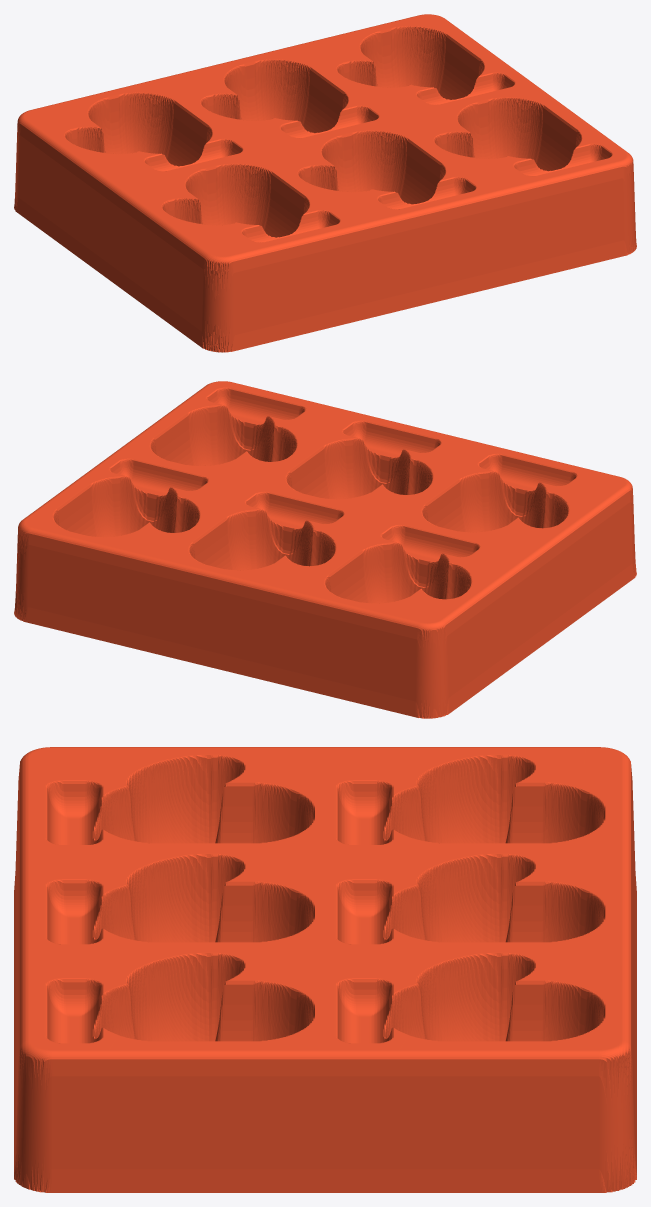
File: mold.glb
The picture shows the model from 3 angles, top to bottom: view 1: azimuth 30°, elevation 25°; view 2: azimuth 150°, elevation 25°; view 3: azimuth 270°, elevation 25°; orthographic projection. The views are drawn at different scales.
Parts seen in each view (by area): view 1: geometry_0; view 2: geometry_0; view 3: geometry_0.
Boxes of the visible parts, <box> form: geometry_0: <box>14,14,636,352</box>; geometry_0: <box>14,381,636,718</box>; geometry_0: <box>14,747,636,1192</box>.
Bounding box in the file's own units: 0.1785 × 0.036 × 0.1492.
